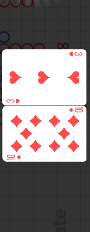10D: (5, 154, 22, 161)
3H: (67, 51, 83, 58)
